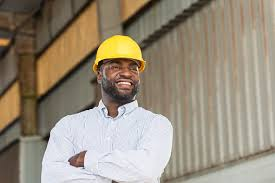Person_wearing_helmet: (87, 31, 147, 76)
